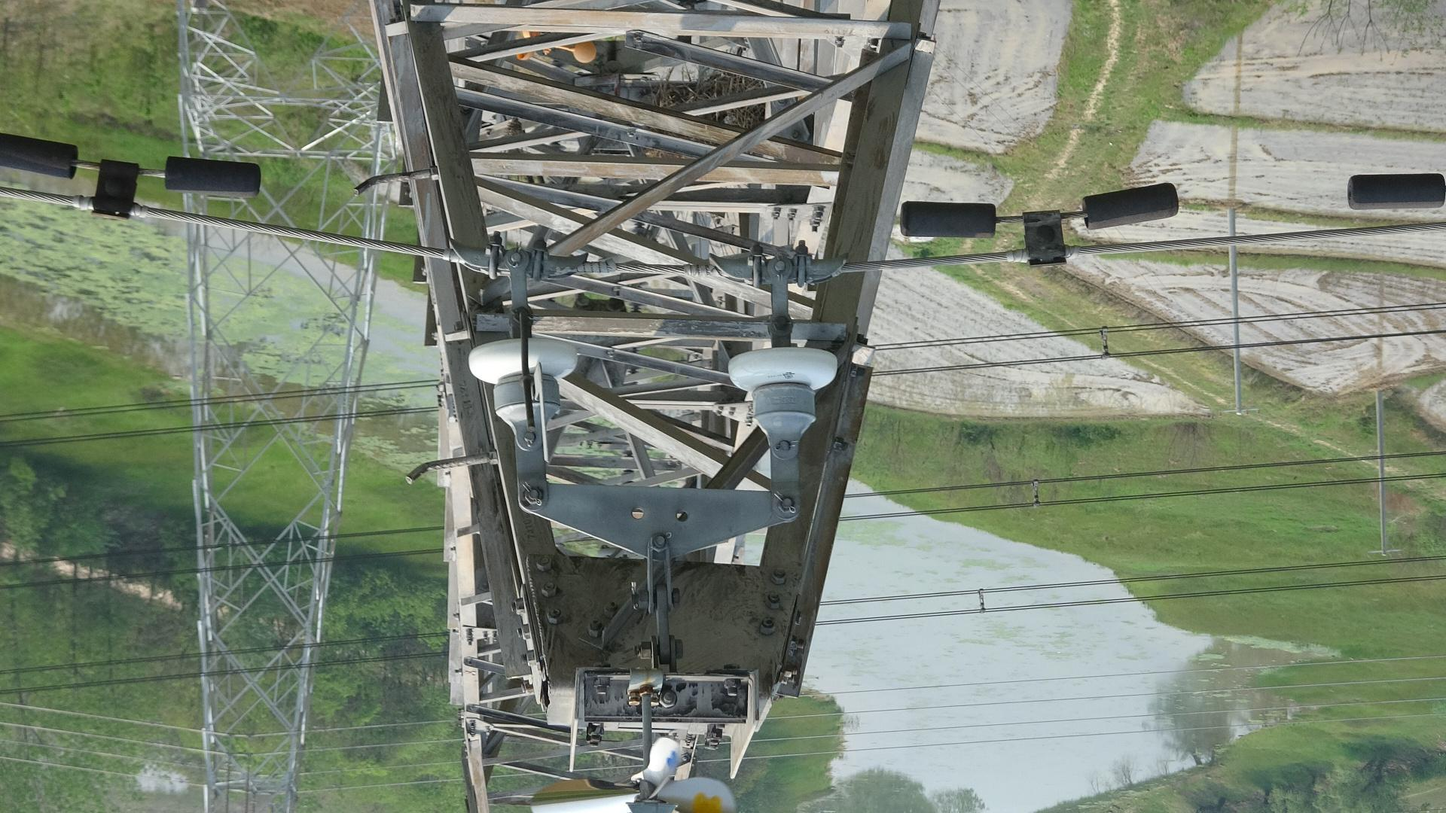damper: (886, 176, 1187, 276), (1, 123, 271, 227)
nest: (645, 68, 767, 130)
